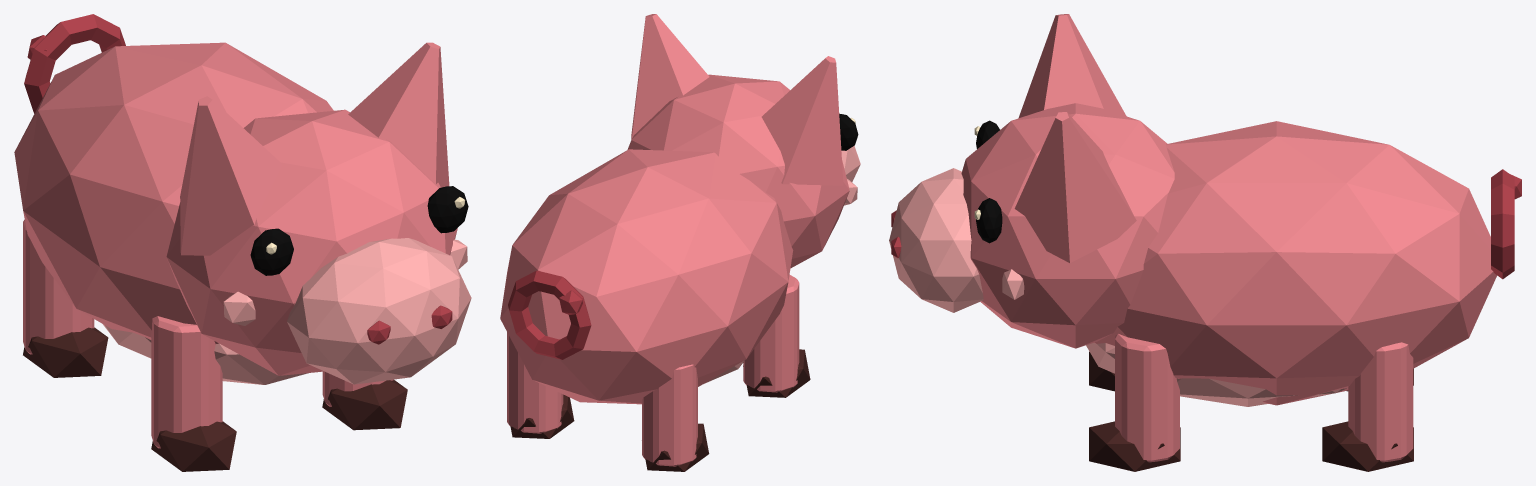
Rendered from Piglet.glb.
3 renders of one model, left to right at view 1: azimuth 30°, elevation 25°; view 2: azimuth 150°, elevation 25°; view 3: azimuth 270°, elevation 25°, orthographic. The views are drawn at different scales.
Parts seen in each view (by area): view 1: Piglet_Body, Piglet_Head, Piglet_Snout, Piglet_Ear_R, Piglet_Ear_L, Piglet_Leg_FR, Piglet_Leg_RR, Piglet_TailCurl, Piglet_Hoof_FL, Piglet_Hoof_FR, Piglet_Hoof_RR, Piglet_Belly (+4 smaller); view 2: Piglet_Body, Piglet_Head, Piglet_Ear_R, Piglet_Leg_RR, Piglet_Ear_L, Piglet_Leg_FR, Piglet_TailCurl, Piglet_Leg_RL, Piglet_Hoof_FR, Piglet_Hoof_RR, Piglet_Hoof_RL, Piglet_Eye_R (+2 smaller); view 3: Piglet_Body, Piglet_Head, Piglet_Ear_L, Piglet_Snout, Piglet_Leg_FL, Piglet_Leg_RL, Piglet_Ear_R, Piglet_Belly, Piglet_TailCurl, Piglet_Hoof_RL, Piglet_Hoof_FL, Piglet_Eye_L.
Part boxes in pixels (left/top/right/bottom): Piglet_Body: left=14, top=42, right=333, bottom=343; Piglet_Head: left=166, top=109, right=457, bottom=375; Piglet_Snout: left=287, top=238, right=471, bottom=384; Piglet_Ear_R: left=180, top=96, right=282, bottom=255; Piglet_Ear_L: left=348, top=42, right=449, bottom=187; Piglet_Leg_FR: left=151, top=316, right=222, bottom=448; Piglet_Leg_RR: left=23, top=219, right=94, bottom=354; Piglet_TailCurl: left=24, top=14, right=125, bottom=113; Piglet_Hoof_FL: left=322, top=380, right=407, bottom=430; Piglet_Hoof_FR: left=151, top=421, right=236, bottom=471; Piglet_Hoof_RR: left=23, top=327, right=108, bottom=377; Piglet_Belly: left=103, top=324, right=308, bottom=384; Piglet_Body: left=500, top=149, right=793, bottom=404; Piglet_Head: left=627, top=74, right=849, bottom=268; Piglet_Ear_R: left=761, top=56, right=843, bottom=185; Piglet_Leg_RR: left=642, top=364, right=697, bottom=466; Piglet_Ear_L: left=631, top=14, right=709, bottom=139; Piglet_Leg_FR: left=743, top=275, right=799, bottom=392; Piglet_TailCurl: left=508, top=270, right=591, bottom=359; Piglet_Leg_RL: left=507, top=332, right=563, bottom=433; Piglet_Hoof_FR: left=743, top=349, right=810, bottom=397; Piglet_Hoof_RR: left=645, top=423, right=709, bottom=471; Piglet_Hoof_RL: left=510, top=394, right=574, bottom=438; Piglet_Eye_R: left=839, top=113, right=858, bottom=150; Piglet_Body: left=1094, top=121, right=1496, bottom=405; Piglet_Head: left=961, top=103, right=1174, bottom=348; Piglet_Ear_L: left=1014, top=112, right=1136, bottom=262; Piglet_Snout: left=889, top=168, right=983, bottom=312; Piglet_Leg_FL: left=1115, top=334, right=1179, bottom=462; Piglet_Leg_RL: left=1348, top=342, right=1413, bottom=462; Piglet_Ear_R: left=1018, top=14, right=1126, bottom=118; Piglet_Belly: left=1086, top=343, right=1346, bottom=406; Piglet_TailCurl: left=1491, top=169, right=1514, bottom=279; Piglet_Hoof_RL: left=1322, top=421, right=1413, bottom=471; Piglet_Hoof_FL: left=1089, top=421, right=1180, bottom=471; Piglet_Eye_L: left=976, top=198, right=1002, bottom=243.
Size of the model in its own units: 0.8179 by 1.14 by 1.76.
